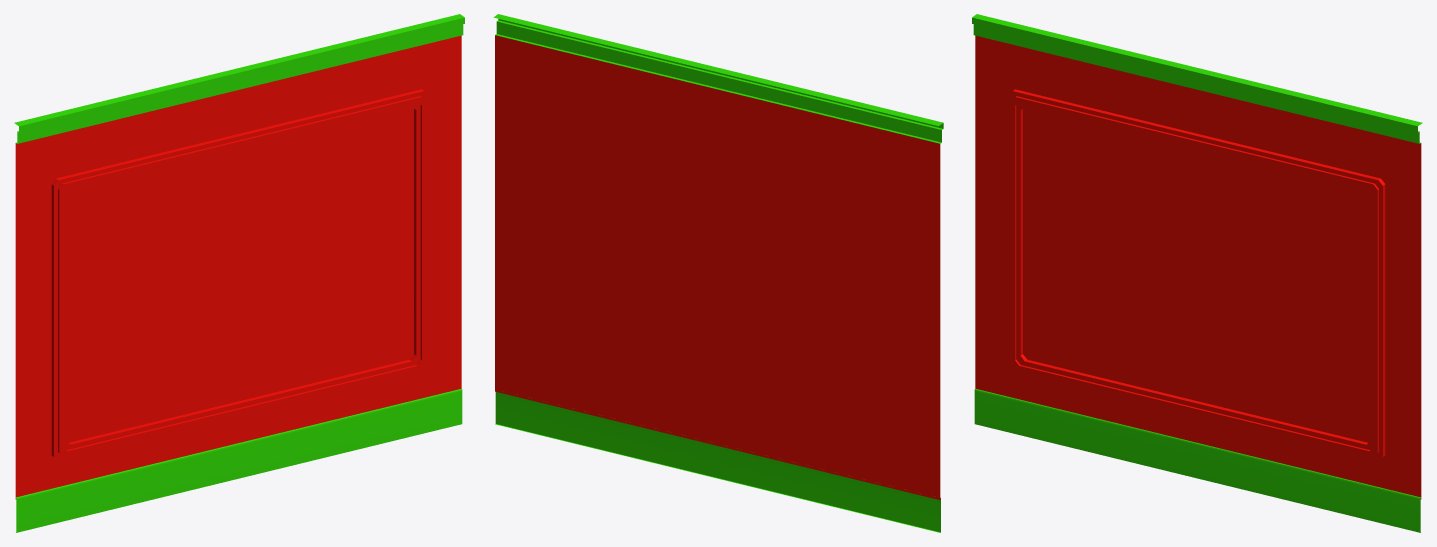
The model's file is KoshiKabe-2.fbx.
3 views of the same model, side by side, from view 1: azimuth 30°, elevation 25°; view 2: azimuth 150°, elevation 25°; view 3: azimuth 330°, elevation 25° (orthographic).
Parts seen in each view (by area): view 1: KoshiKabe-2; view 2: KoshiKabe-2; view 3: KoshiKabe-2.
Boxes of the visible parts, x1=… form: KoshiKabe-2: x1=14, y1=14, x2=464, y2=532; KoshiKabe-2: x1=493, y1=14, x2=943, y2=532; KoshiKabe-2: x1=972, y1=14, x2=1422, y2=532.
Size of the model in its own units: 0.96 by 0.84 by 0.0207.
